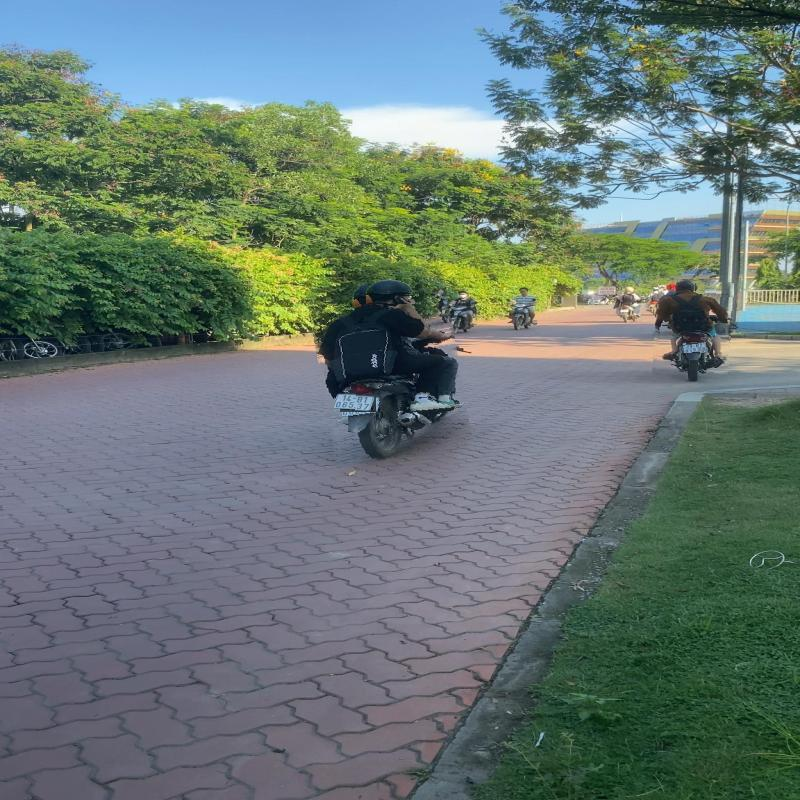helmet: (366, 278, 415, 304), (674, 281, 695, 292)
licenseplate: (334, 393, 376, 412), (682, 342, 708, 353)
motorcyclist: (313, 273, 466, 463), (654, 279, 732, 384)
